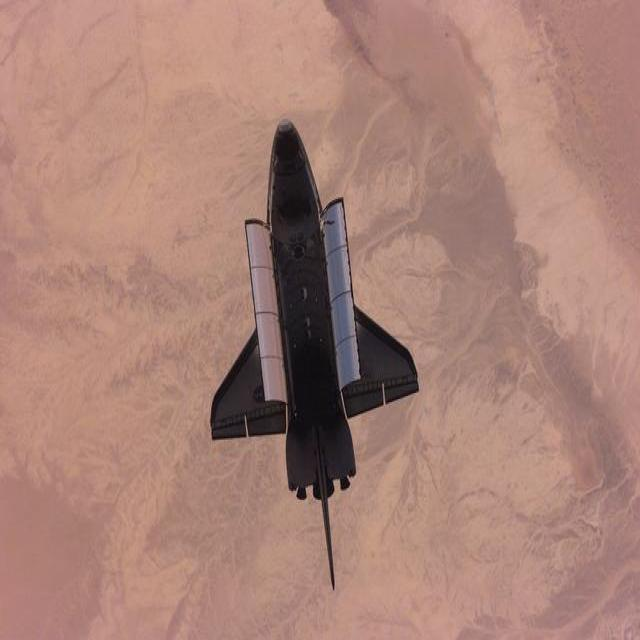medium_debris: (214, 118, 422, 594)
